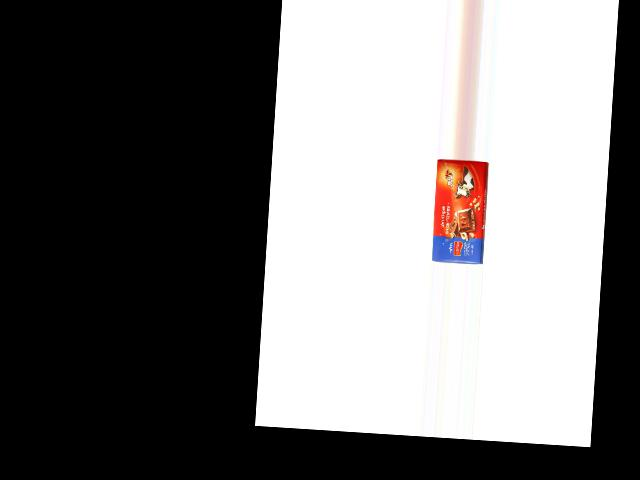chocolate: (431, 158, 489, 264)
